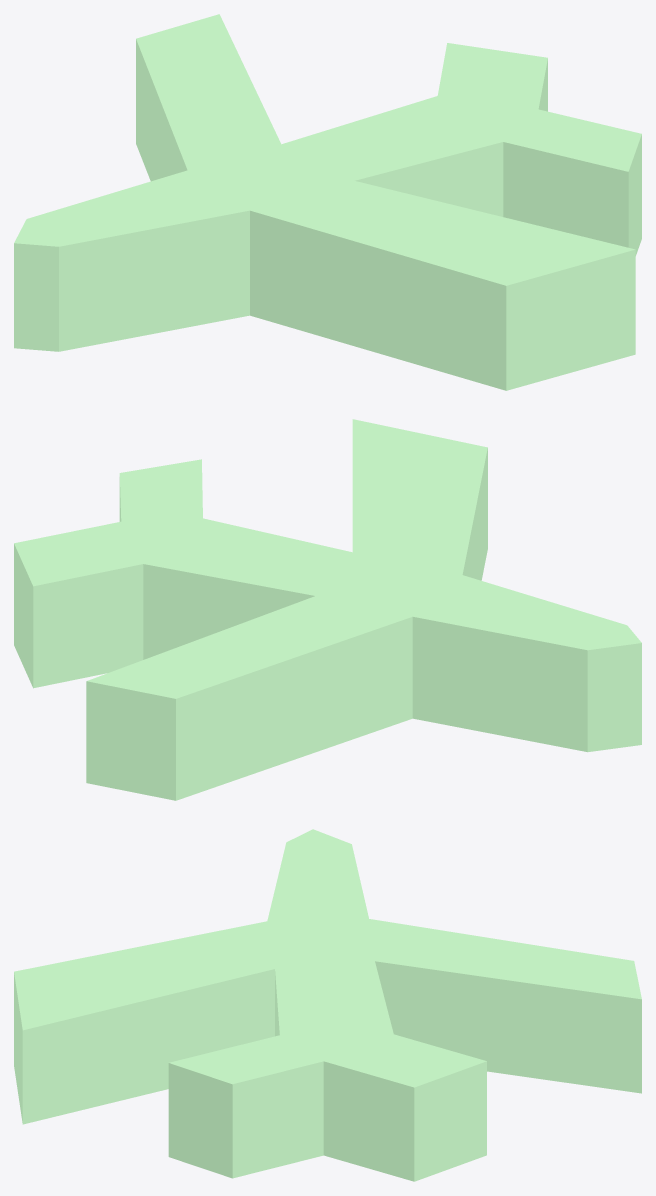
3 views of the same model, one above another, from view 1: azimuth 30°, elevation 25°; view 2: azimuth 150°, elevation 25°; view 3: azimuth 270°, elevation 25° (orthographic). The views are drawn at different scales.
Size of the model in its own units: 5.88 by 1 by 6.04.
